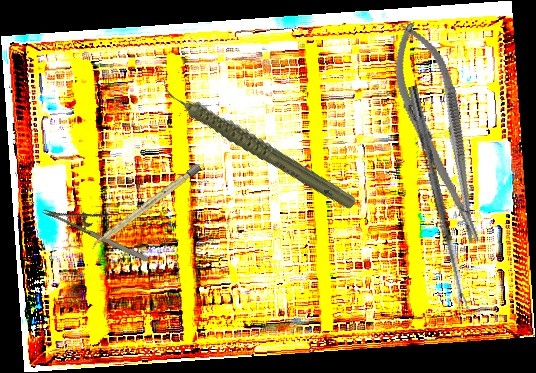Handpiece: (156, 41, 361, 246)
Needle Holder: (380, 16, 500, 251), (42, 188, 157, 265)
Scalpel Handle: (89, 163, 202, 251)
Surgical Spoon: (406, 85, 469, 311)
